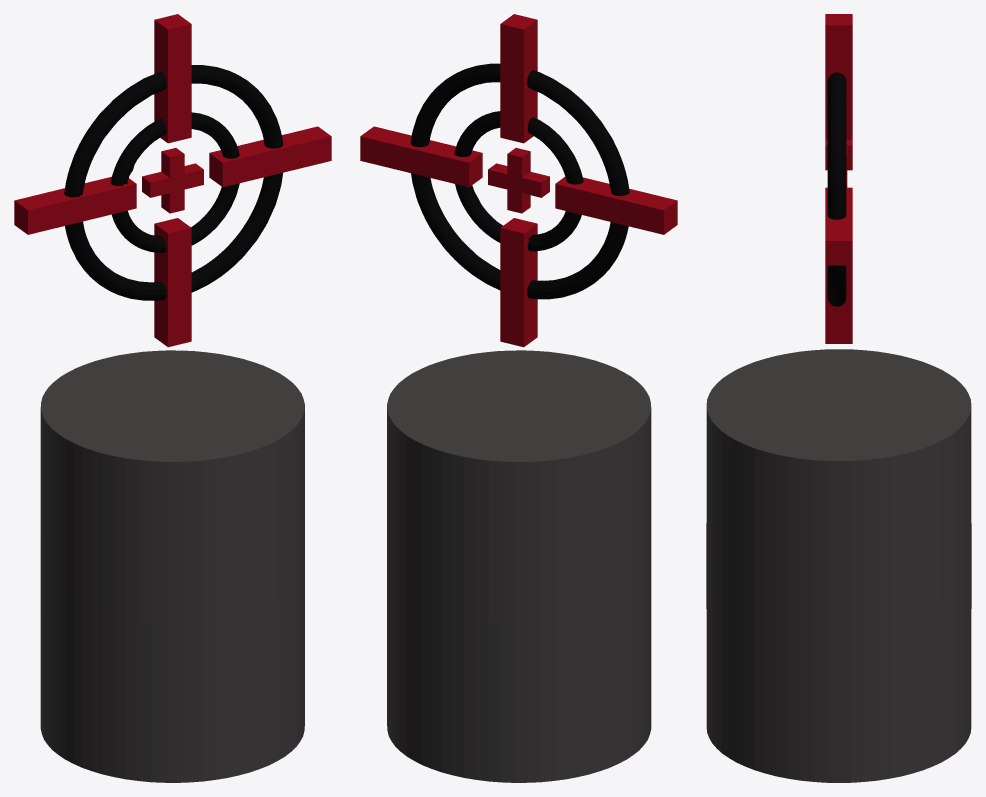
File: pickup-ammo-1-3-1.fbx
The picture shows the model from 3 angles, left to right: view 1: azimuth 30°, elevation 25°; view 2: azimuth 150°, elevation 25°; view 3: azimuth 270°, elevation 25°; orthographic projection.
Parts seen in each view (by area): view 1: Cylinder.002, Torus.004; view 2: Cylinder.002, Torus.004; view 3: Cylinder.002, Torus.004.
Part boxes in pixels (x1,y1,x2,y2): Cylinder.002: (40,350,304,782); Torus.004: (14,14,331,347); Cylinder.002: (387,350,651,782); Torus.004: (360,14,677,347); Cylinder.002: (706,349,971,782); Torus.004: (825,14,852,343).
Bounding box in the file's own units: 316 × 419 × 930.
